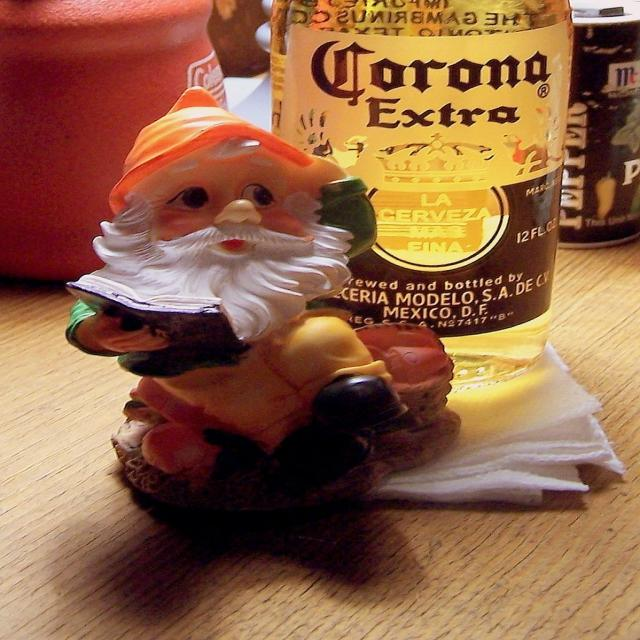corona: (281, 21, 575, 340)
